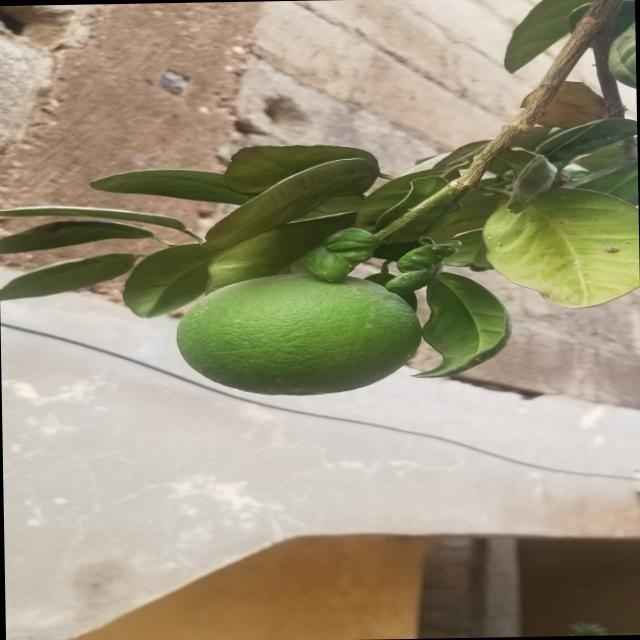agrume: (166, 267, 446, 418)
